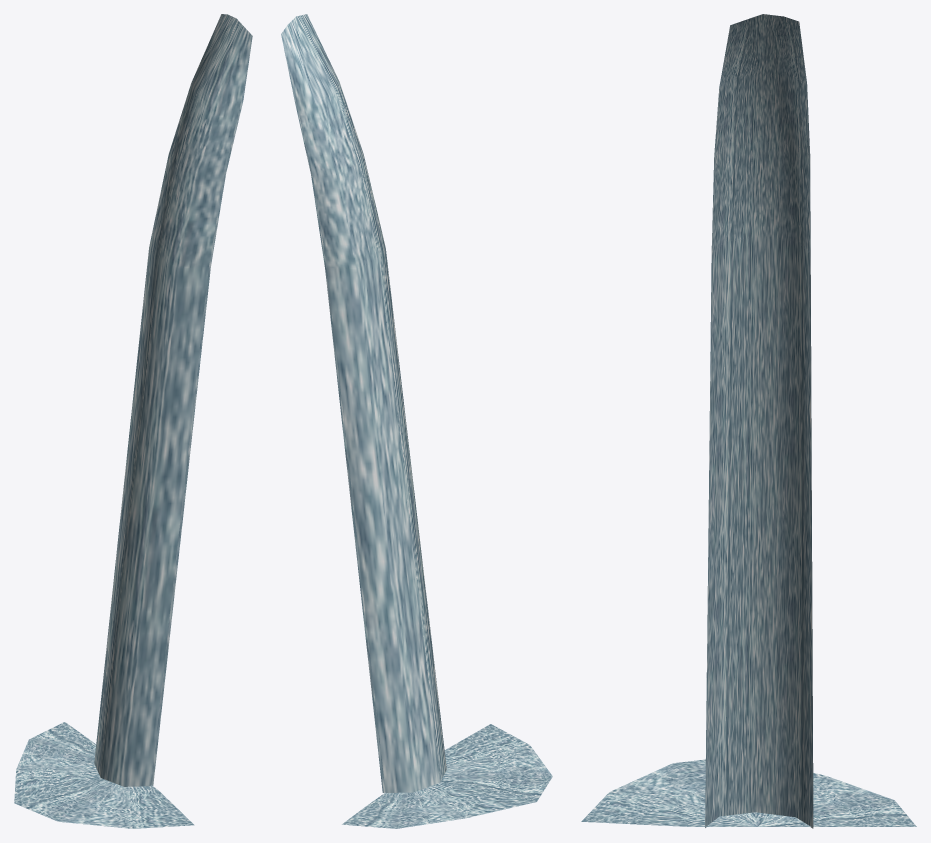
File: Waterfall3.obj
The picture shows the model from 3 angles, left to right: view 1: azimuth 30°, elevation 25°; view 2: azimuth 150°, elevation 25°; view 3: azimuth 270°, elevation 25°; orthographic projection. The views are drawn at different scales.
Size of the model in its own units: 104 by 311 by 108.
Materials: 1 (1 with a texture image).
